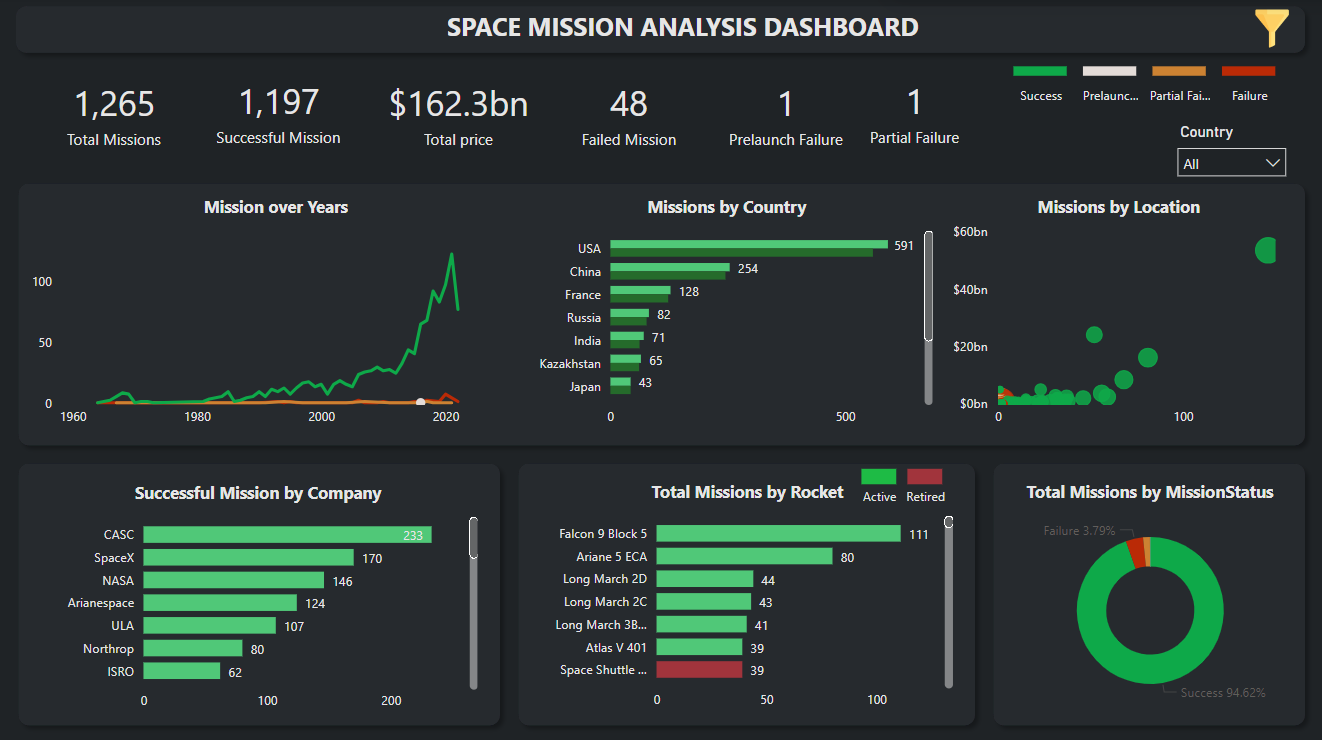

This screenshot's page, from the dashboard's own definition file:
{"tool":"powerbi","page":{"name":"Space Mission Dashboard","canvas":[1280,720],"ordinal":1},"visuals":[{"type":"shape","box":[10.9,171.3,1259.1,270.2],"z":0},{"type":"shape","box":[10.9,441.4,482.4,270.2],"z":1000},{"type":"shape","box":[493.3,441.4,458.3,270.2],"z":2000},{"type":"shape","box":[951.6,441.4,318.4,270.2],"z":3000},{"type":"shape","box":[8.4,0,1261.5,62.7],"z":4000},{"type":"lineChart","title":"Mission over Years","fields":{"Category":["Date Table.Year"],"Y":["All Measures.Total Missions"],"Series":["Space Missions.MissionStatus"]},"box":[22,185.2,492.6,241.5],"z":5000},{"type":"scatterChart","title":"Missions by Location","fields":{"X":["All Measures.Total Missions"],"Y":["All Measures.Total price"],"Category":["Space Missions.Location"],"Series":["Space Missions.MissionStatus"],"Size":["All Measures.Successful Mission"]},"box":[911.2,185.2,341.7,241.5],"z":6000},{"type":"clusteredBarChart","fields":{"Category":["Space Missions.Company"],"Y":["All Measures.Successful Mission"]},"box":[28.9,461.9,443.8,240],"z":7000},{"type":"clusteredBarChart","fields":{"Category":["Space Missions.Rocket"],"Y":["All Measures.Total Missions"]},"box":[515,460.7,416.1,240],"z":8000},{"type":"donutChart","fields":{"Y":["All Measures.Total Missions"],"Category":["Space Missions.MissionStatus"]},"box":[972.1,460.7,278.6,240],"z":9000},{"type":"clusteredColumnChart","fields":{"Category":["Space Missions.MissionStatus"],"Y":["All Measures.Legend"]},"box":[933.1,53.5,337.6,63.1],"z":10000},{"type":"clusteredColumnChart","fields":{"Y":["All Measures.Legend"],"Category":["Space Missions.RocketStatus"]},"box":[782.7,441.4,179.7,63.9],"z":11000},{"type":"card","fields":{"Values":["All Measures.Total Missions"]},"box":[44.6,73.6,133.9,82],"z":12000},{"type":"card","fields":{"Values":["All Measures.Successful Mission"]},"box":[188.1,69.9,164,85.6],"z":13000},{"type":"card","fields":{"Values":["All Measures.Total price"]},"box":[360.6,73.6,166.4,82],"z":14000},{"type":"card","fields":{"Values":["All Measures.Failed Mission"]},"box":[541.5,73.6,133.9,82],"z":15000},{"type":"card","fields":{"Values":["All Measures.Prelaunch Failure"]},"box":[693.5,73.6,132.7,82],"z":16000},{"type":"card","fields":{"Values":["All Measures.Partial Failure"]},"box":[826.1,72.4,115.8,82],"z":17000},{"type":"textbox","box":[423.3,7.2,504.1,55.5],"z":18000},{"type":"image","box":[1206.2,6.9,46.7,46.7],"z":19000},{"type":"clusteredBarChart","title":"Missions by Country","fields":{"Category":["Space Missions.Country"],"Y":["CountNonNull(Space Missions.Mission)","All Measures.Successful Mission"]},"box":[494,185.2,417.2,241.5],"z":19001},{"type":"slicer","fields":{"Values":["Space Missions.Country"]},"box":[1128,116.6,124.9,71.4],"z":19002}]}

Visuals, with their boxes in screenshot pixels (x1, y1, x2, y2), scaled from the page's 1280x720 canvas onto the 1322x740 screenshot:
shape: box=[11, 176, 1312, 454]
shape: box=[11, 454, 509, 731]
shape: box=[509, 454, 983, 731]
shape: box=[983, 454, 1312, 731]
shape: box=[9, 0, 1312, 64]
"Mission over Years" lineChart: box=[23, 190, 531, 439]
"Missions by Location" scatterChart: box=[941, 190, 1294, 439]
clusteredBarChart - Space Missions.Company x All Measures.Successful Mission: box=[30, 475, 488, 721]
clusteredBarChart - Space Missions.Rocket x All Measures.Total Missions: box=[532, 473, 962, 720]
donutChart - All Measures.Total Missions x Space Missions.MissionStatus: box=[1004, 473, 1292, 720]
clusteredColumnChart - Space Missions.MissionStatus x All Measures.Legend: box=[964, 55, 1312, 120]
clusteredColumnChart - All Measures.Legend x Space Missions.RocketStatus: box=[808, 454, 994, 519]
card - All Measures.Total Missions: box=[46, 76, 184, 160]
card - All Measures.Successful Mission: box=[194, 72, 364, 160]
card - All Measures.Total price: box=[372, 76, 544, 160]
card - All Measures.Failed Mission: box=[559, 76, 698, 160]
card - All Measures.Prelaunch Failure: box=[716, 76, 853, 160]
card - All Measures.Partial Failure: box=[853, 74, 973, 159]
textbox: box=[437, 7, 958, 64]
image: box=[1246, 7, 1294, 55]
"Missions by Country" clusteredBarChart: box=[510, 190, 941, 439]
slicer - Space Missions.Country: box=[1165, 120, 1294, 193]
